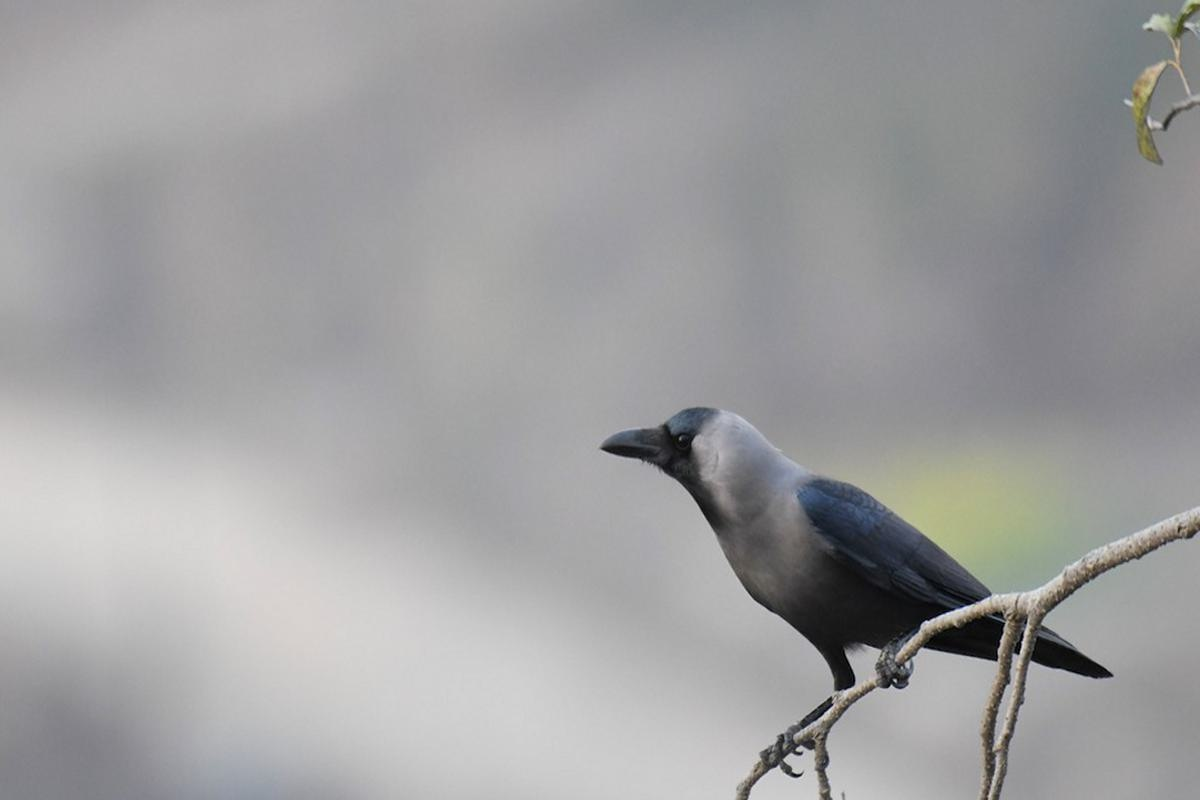crow: (604, 377, 1129, 738)
